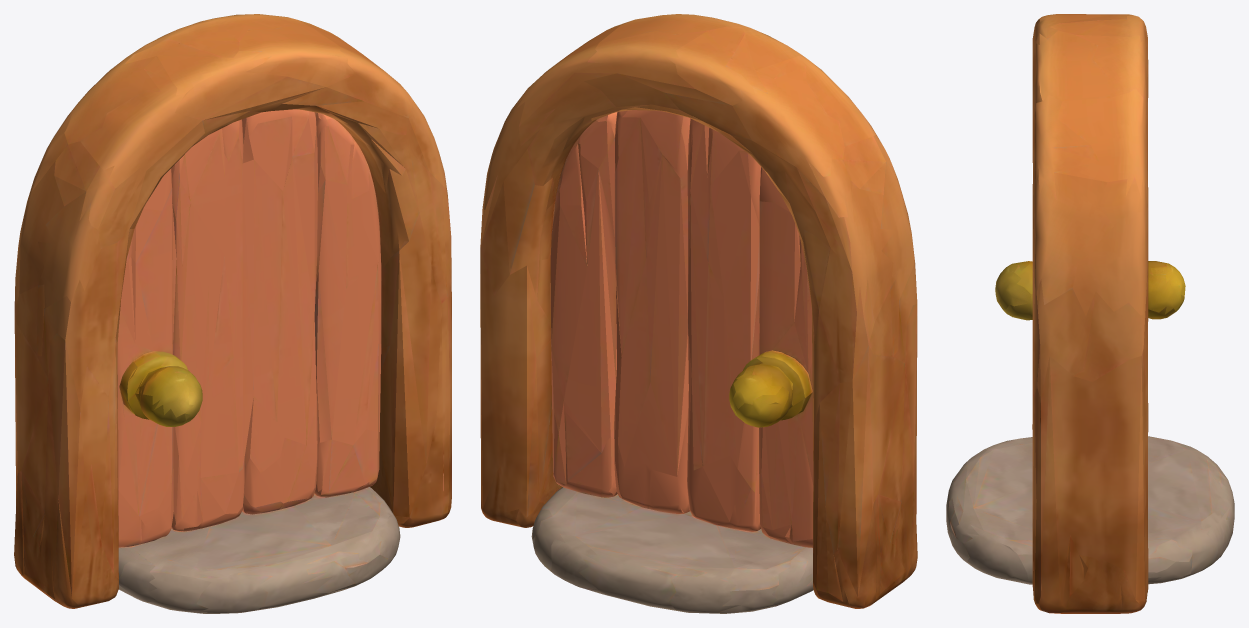
File: darwaza.glb
3 renders of one model, left to right at view 1: azimuth 30°, elevation 25°; view 2: azimuth 150°, elevation 25°; view 3: azimuth 270°, elevation 25°, orthographic. The views are drawn at different scales.
Size of the model in its own units: 1.51 by 1.9 by 1.01.
Materials: 1 (1 with a texture image).
